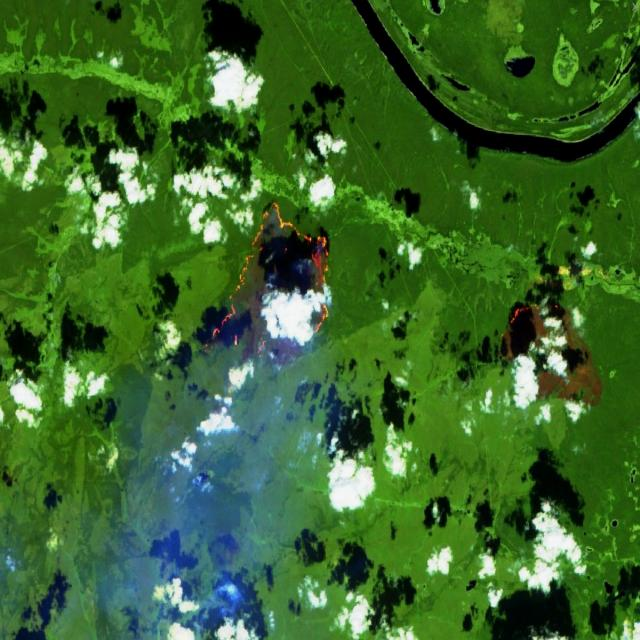fire: (210, 198, 334, 346), (505, 296, 562, 333)
